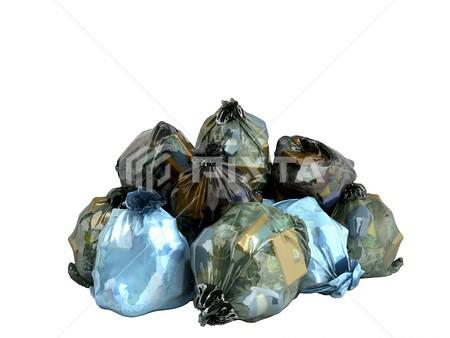Garbage: (172, 200, 325, 320), (88, 184, 190, 323), (195, 85, 274, 192), (67, 183, 145, 289), (334, 186, 417, 284), (279, 195, 357, 299), (275, 127, 363, 208), (118, 119, 198, 199)
